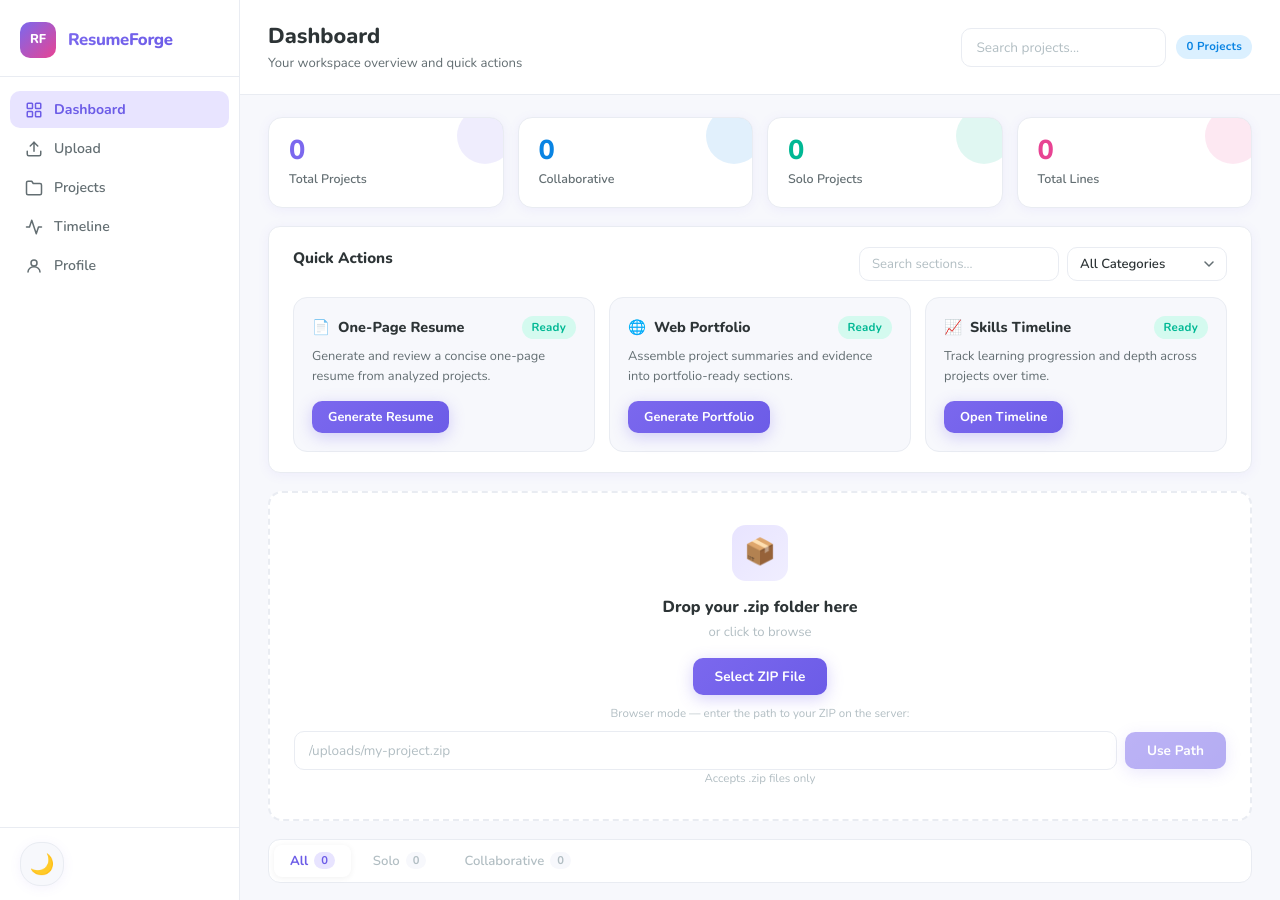
it: App Layout › switches to Timeline view when nav clicked
Click the button "Timeline" at (120, 226), box [10,208,229,245]
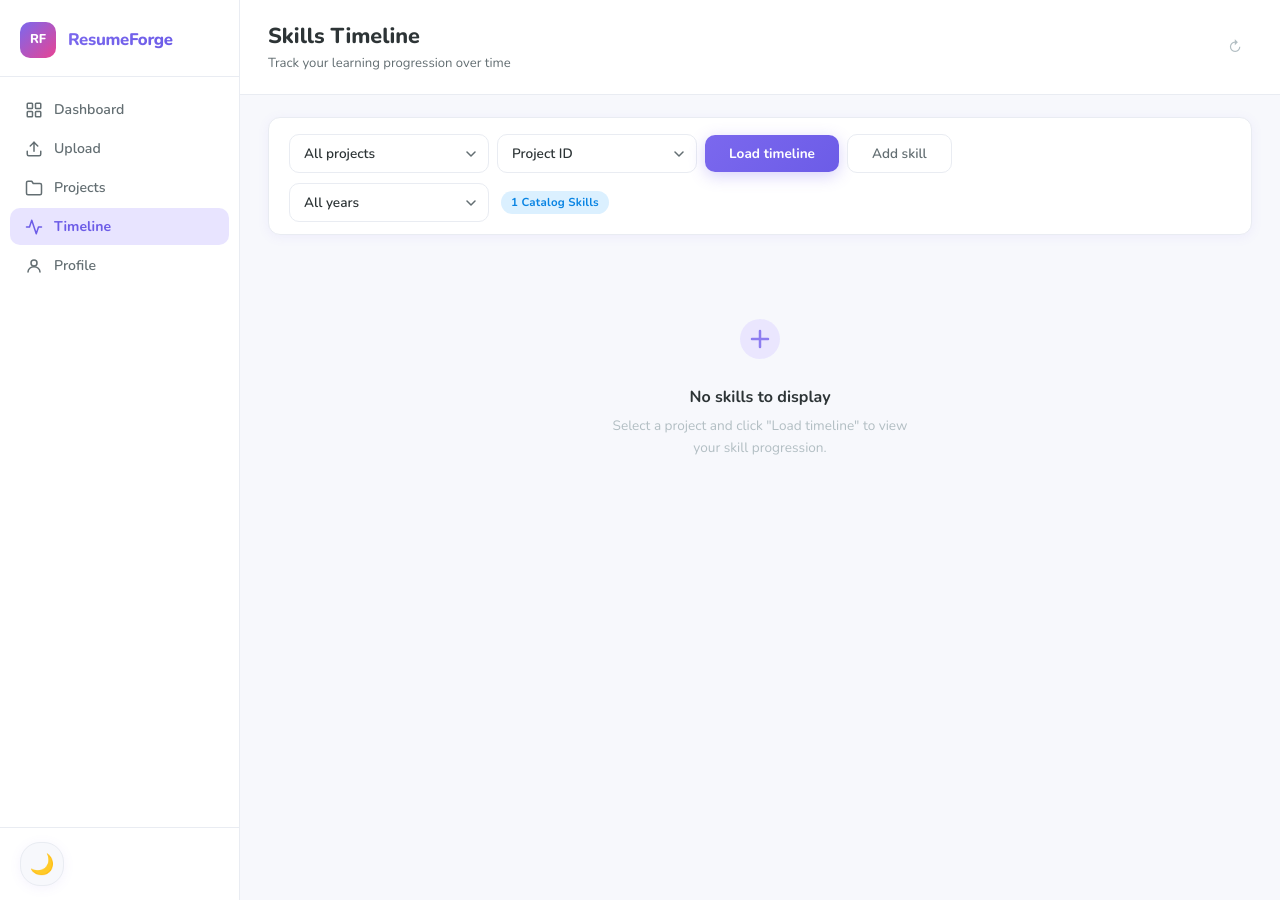
Expected: the button "Load timeline" is shown, [705,135,839,172]
